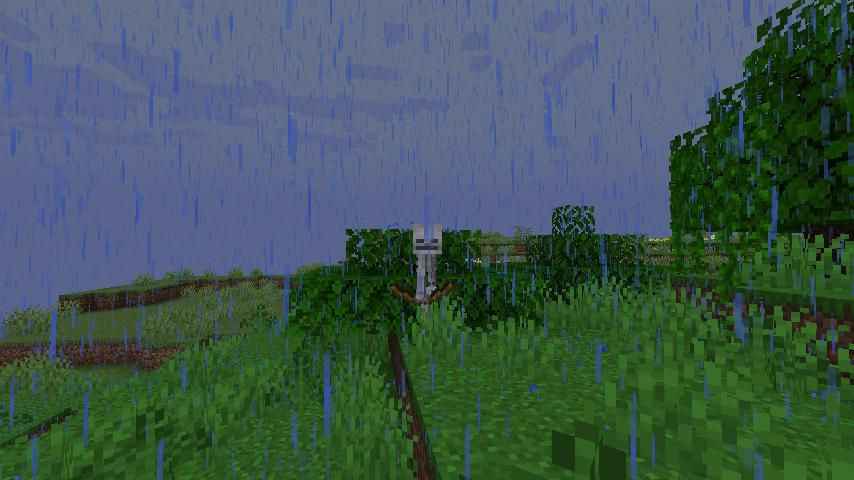skeleton: (392, 222, 451, 319)
